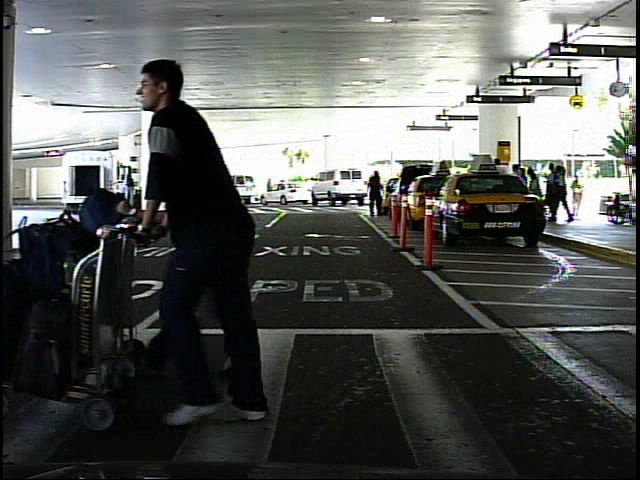person: (138, 45, 295, 424), (365, 168, 388, 223), (112, 170, 130, 211), (571, 172, 587, 218)
